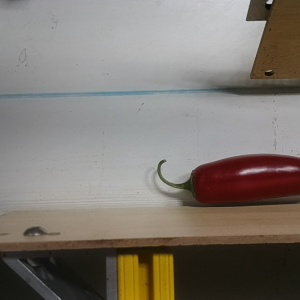Cut Point: (178, 162, 212, 205)
